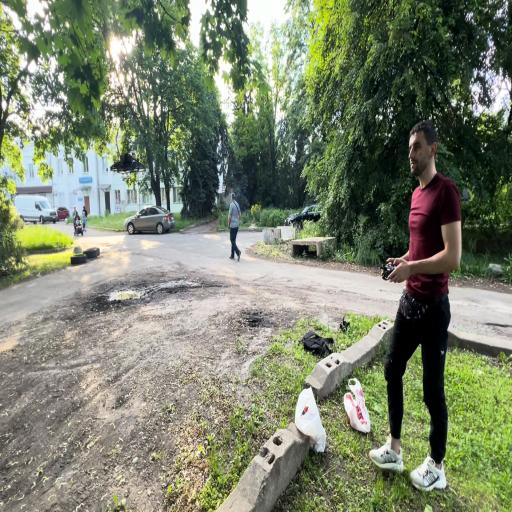drone: (109, 150, 146, 176)
